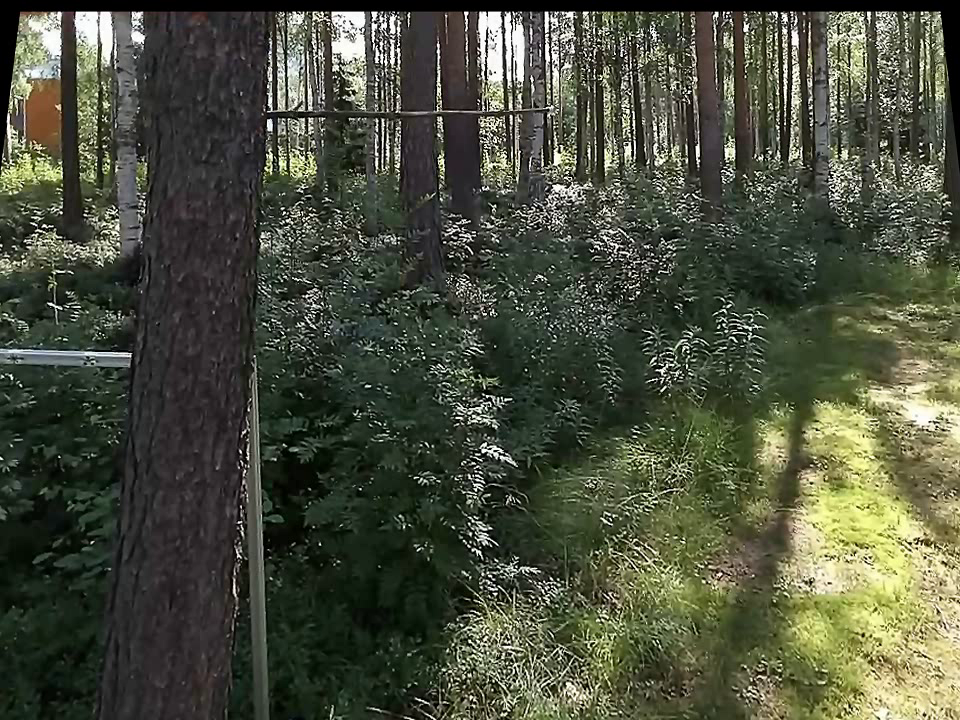aluminum_frame: (240, 358, 280, 714), (1, 344, 136, 373)
branch: (273, 95, 537, 128)
